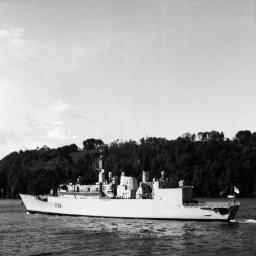Fragata: (19, 143, 242, 226)
